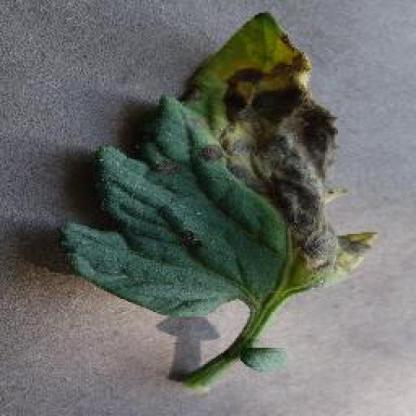Tomato_Blight: (59, 15, 382, 318)
